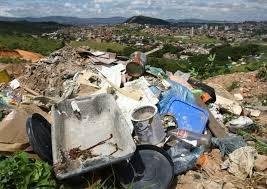rubble: (8, 48, 229, 173)
